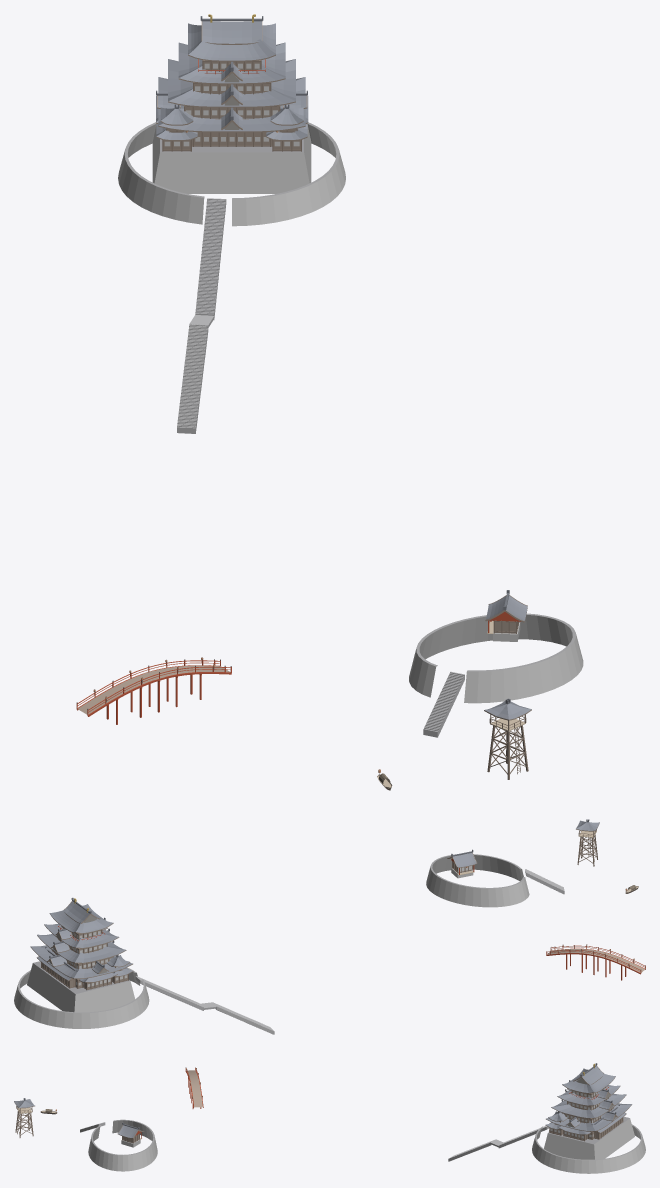
File: landmarks.glb
3 views of the same model, one above another, from view 1: azimuth 30°, elevation 25°; view 2: azimuth 150°, elevation 25°; view 3: azimuth 270°, elevation 25° (orthographic). The views are drawn at different scales.
Visible parts, largest first — view 1: Castle, TerraceWall, PagodaWall, PagodaStairs, Bridge, Watchtower, Shrine, TerraceStairs; view 2: Castle, TerraceWall, PagodaWall, Bridge, PagodaStairs, Watchtower, Shrine; view 3: Castle, PagodaWall, TerraceWall, Watchtower, PagodaStairs, Bridge, Shrine.
Part boxes in pixels (box(x1,y1,x2,y2)): Castle: box(152, 14, 311, 193); TerraceWall: box(409, 613, 583, 703); PagodaWall: box(118, 122, 345, 226); PagodaStairs: box(177, 198, 226, 433); Bridge: box(76, 657, 231, 724); Watchtower: box(484, 698, 531, 779); Shrine: box(485, 590, 527, 641); TerraceStairs: box(423, 671, 464, 737); Castle: box(27, 897, 134, 1012); TerraceWall: box(426, 854, 529, 907); PagodaWall: box(14, 967, 149, 1028); Bridge: box(546, 944, 645, 980); PagodaStairs: box(135, 976, 274, 1034); Watchtower: box(576, 819, 599, 866); Shrine: box(447, 849, 477, 878); Castle: box(544, 1063, 634, 1159); PagodaWall: box(532, 1124, 645, 1173); TerraceWall: box(88, 1119, 157, 1171); Watchtower: box(14, 1098, 34, 1137); PagodaStairs: box(448, 1126, 549, 1161); Bridge: box(185, 1067, 203, 1108); Shrine: box(117, 1122, 144, 1147).
Size of the model in its own units: 141 by 60.59 by 239.
